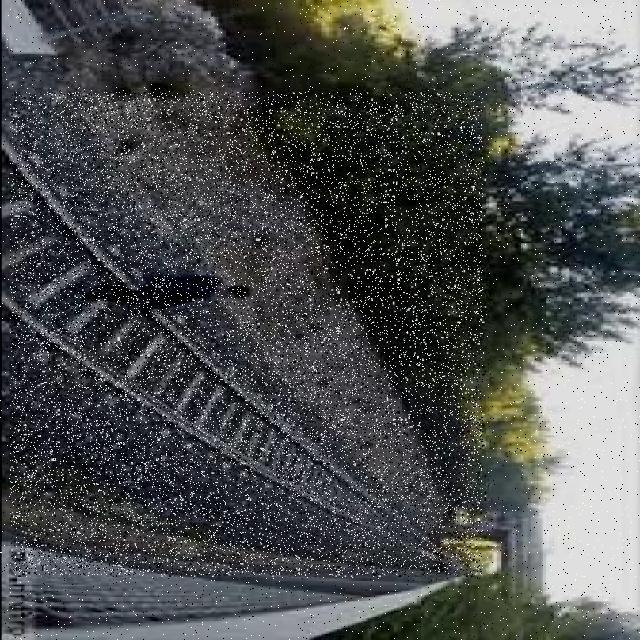danger: (86, 268, 262, 310)
rail: (11, 93, 483, 575)
